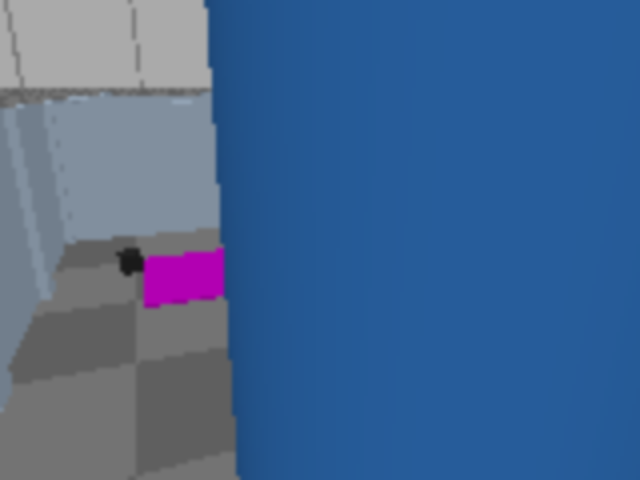goal_zone: (143, 246, 286, 308)
puck: (117, 248, 144, 276)
